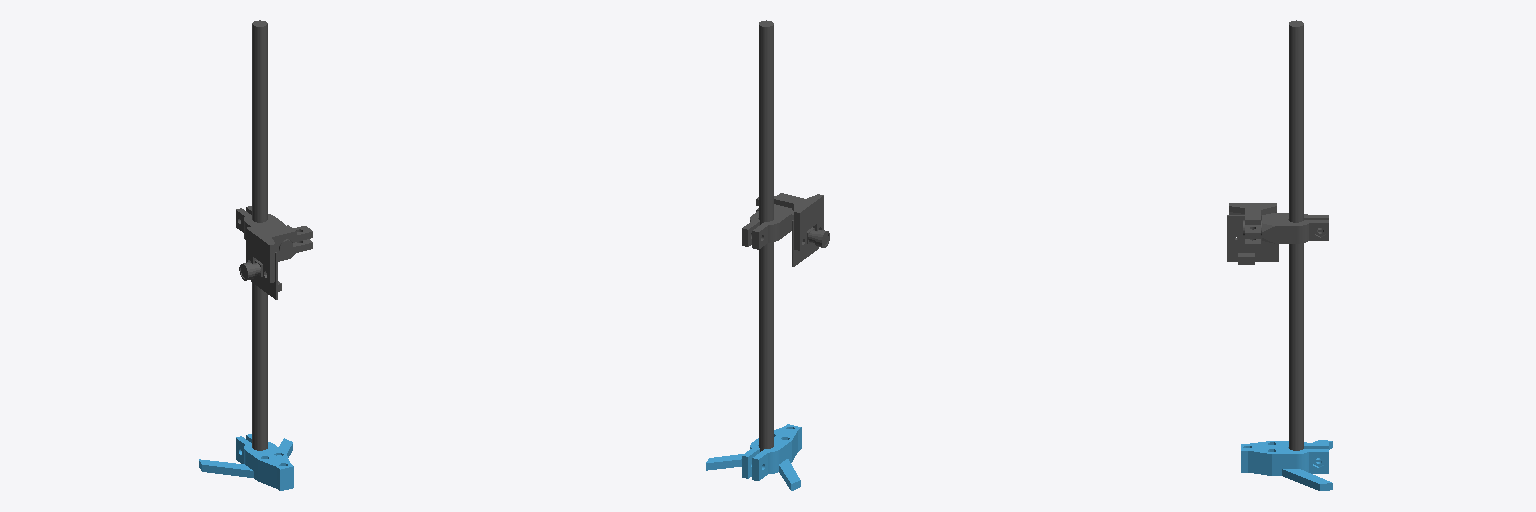
robot.urdf — Camera:
<?xml version="1.0" ?>
<robot name="Camera">

 	<link name="world"/>

	<link name="base_link">
		<visual>
			<origin rpy="0 0 0.0" xyz="0 0 0"/>
      		<geometry>
                <mesh filename="src/assets/meshes/base_rod_holder.dae"/>
      		</geometry>
		</visual>
		<visual>
			<origin rpy="0 0 0.0" xyz="0 0 0.1524"/>
      		<geometry>
                <cylinder radius="0.0047625" length="0.3048" />
      		</geometry>
            <material name="gray">
                <color rgba="0.4 0.4 0.4 1.0"/>
            </material>
		</visual>
        <collision>
            <origin rpy="0 0 0.0" xyz="0 -0.01 0.0075"/>
            <geometry>
              <box size="0.06 0.06 0.015"/>
            </geometry>
        </collision>
        <collision>
            <origin rpy="0 0 0.0" xyz="0 0 0.1524"/>
              <geometry>
                <cylinder radius="0.0047625" length="0.3048" />
              </geometry>
        </collision>
        <inertial>
            <mass value="1"/>
            <inertia ixx="0.0001" ixy="0" ixz="0" iyy="0.0001" iyz="0" izz="0.00001"/>
        </inertial>
  	</link>

	<link name="dummy_holder_link">
        <inertial>
            <mass value="1"/>
            <inertia ixx="0.0001" ixy="0" ixz="0" iyy="0.0001" iyz="0" izz="0.00001"/>
        </inertial>
  	</link>

    <link name="holder_link">
        <visual>
              <origin rpy="0 0 0" xyz="0.0 0.0 0.0"/>
              <geometry>
                <mesh filename="src/assets/meshes/top_rod_holder.dae"/>
              </geometry>
              <material name="gray">
                <color rgba="0.4 0.4 0.4 1.0"/>
              </material>
        </visual>
        <collision>
              <origin rpy="0 0 0" xyz="0.0 -0.005 0.0"/>
              <geometry>
                  <box size="0.02 0.05 0.012"/>
              </geometry>
        </collision>
        <inertial>
            <mass value="1"/>
            <inertia ixx="0.0001" ixy="0" ixz="0" iyy="0.0001" iyz="0" izz="0.00001"/>
        </inertial>
    </link>

    <link name="camera_link">
        <visual>
              <origin rpy="0 0 0" xyz="0.0 0.0 0.0"/>
              <geometry>
                  <mesh filename="src/assets/meshes/camera_with_holder.dae"/>
              </geometry>
              <material name="gray">
                <color rgba="0.4 0.4 0.4 1.0"/>
              </material>
        </visual>
        <collision>
              <origin rpy="0 0 0" xyz="0.0 0.0 -0.01"/>
              <geometry>
                  <box size="0.04 0.03 0.04"/>
              </geometry>
        </collision>
        <inertial>
            <mass value="1"/>
            <inertia ixx="0.0001" ixy="0" ixz="0" iyy="0.0001" iyz="0" izz="0.00001"/>
        </inertial>
    </link>

    <joint name="world_joint" type="fixed">
        <parent link="world"/>
        <child link="camera_link"/>
        <origin rpy="0.0 0.0 0.0" xyz="0.0 0.0 0.0"/>
    </joint>

    <joint name="pitch" type="revolute">
        <parent link="camera_link"/>
        <child link="holder_link"/>
        <origin rpy="0.0 0.0 0.0" xyz="0.0 0.027 0.0"/>
        <limit lower="0" upper="6.28319" velocity="1"/>
        <axis xyz="0 0 1"/>
    </joint>

     <joint name="yaw" type="revolute">
        <parent link="holder_link"/>
        <child link="dummy_holder_link"/>
        <origin rpy="0.0 0.0 0.0" xyz="0.0 0.0 0.0"/>
        <limit lower="0" upper="6.28319" velocity="1"/>
        <axis xyz="0 0 1"/>
      </joint>

      <joint name="height" type="prismatic">
        <parent link="dummy_holder_link"/>
        <child link="base_link"/>
        <origin rpy="0.0 0.0 0.0" xyz="0.0 0.0 0.0"/>
        <limit lower="0.03" upper="0.3" velocity="1"/>
        <axis xyz="0 0 -1"/>
      </joint>
</robot>

--- Facts derived from the render (not from the file) ---
3 views of the same robot in one strip: view 1: azimuth 30°, elevation 25°; view 2: azimuth 150°, elevation 25°; view 3: azimuth 270°, elevation 25° (orthographic).
Robot: Camera — 5 links, 4 joints (2 revolute, 1 prismatic, 1 fixed); root link world; default pose: joints at zero except 1 at the middle of their limits (height = 0.165).
Links seen in each view (by area): view 1: base_link, camera_link, holder_link; view 2: base_link, camera_link, holder_link; view 3: base_link, camera_link, holder_link.
Boxes of the visible links, box(x1,y1,x2,y2) form: base_link: box(199, 20, 293, 490); camera_link: box(239, 225, 312, 299); holder_link: box(236, 206, 292, 254); base_link: box(706, 20, 801, 490); camera_link: box(756, 193, 829, 266); holder_link: box(742, 204, 793, 249); base_link: box(1241, 20, 1332, 490); camera_link: box(1227, 203, 1278, 264); holder_link: box(1243, 213, 1328, 243).
Size in the robot's own frame: 0.0654 by 0.0656 by 0.3048 metres.
3 mesh visuals loaded from 3 distinct referenced files (3 Collada DAE).